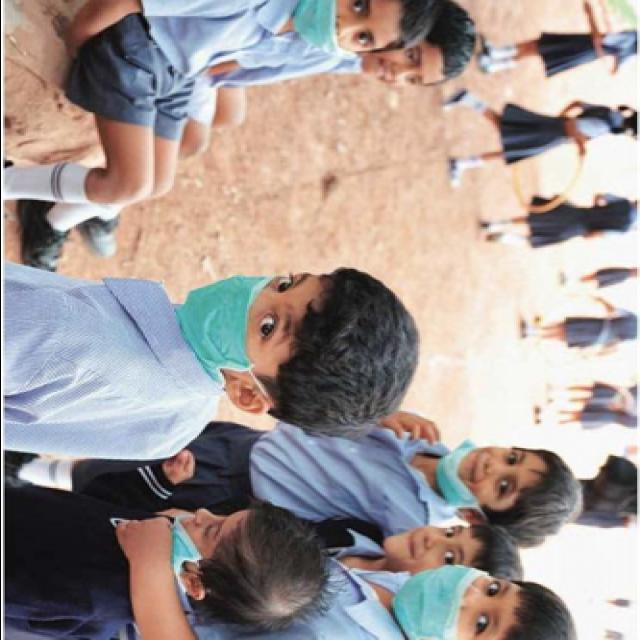mask_weared_incorrect: (436, 438, 524, 508), (292, 0, 380, 58), (165, 506, 231, 564)
with_mask: (175, 269, 319, 373), (390, 562, 515, 638)
without_mask: (382, 523, 474, 568), (360, 44, 432, 86)
